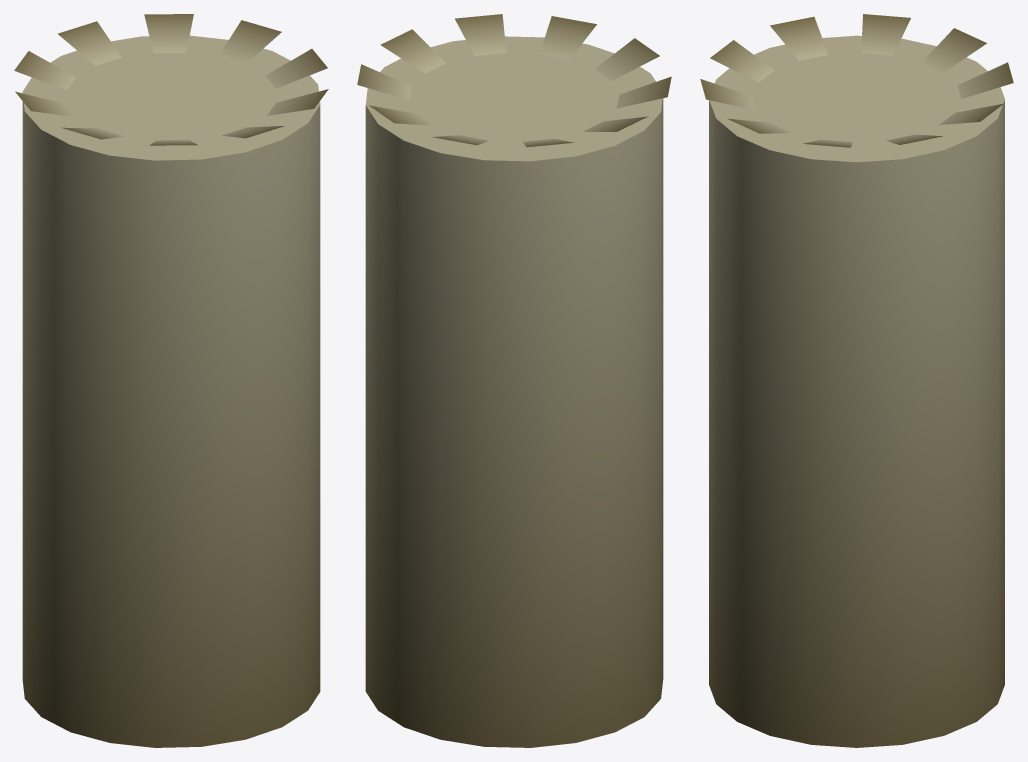
The model's file is chess_rook_01a_blendshapetest.fbx.
The picture shows the model from 3 angles, left to right: view 1: azimuth 30°, elevation 25°; view 2: azimuth 150°, elevation 25°; view 3: azimuth 270°, elevation 25°; orthographic projection.
Parts seen in each view (by area): view 1: rook; view 2: rook; view 3: rook.
Part boxes in pixels (bbox=[...]): rook: bbox=[14, 14, 328, 747]; rook: bbox=[357, 14, 671, 747]; rook: bbox=[700, 14, 1013, 747].
Size of the model in its own units: 2.69 by 5.67 by 2.67.
